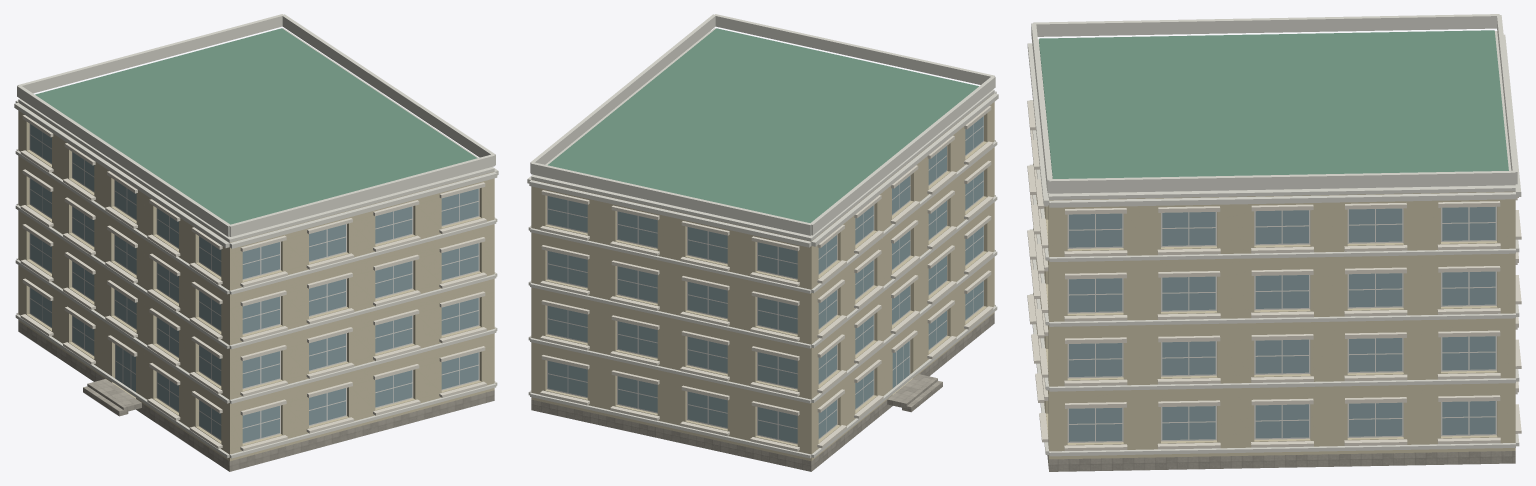
3 views of the same model, side by side, from view 1: azimuth 30°, elevation 25°; view 2: azimuth 150°, elevation 25°; view 3: azimuth 270°, elevation 25° (orthographic). The views are drawn at different scales.
Visible parts, largest first — view 1: jaran__plaster, jaran__roof, jaran__glass, jaran__cap, jaran__lintel, jaran__frame, jaran__stone, jaran__stair-front, jaran__threshold-front; view 2: jaran__plaster, jaran__roof, jaran__cap, jaran__glass, jaran__lintel, jaran__frame, jaran__stone, jaran__stair-front, jaran__threshold-front; view 3: jaran__roof, jaran__plaster, jaran__cap, jaran__glass, jaran__lintel, jaran__frame, jaran__stone.
Part boxes in pixels (<box>): jaran__plaster: <box>18,102,494,461</box>; jaran__roof: <box>35,28,477,224</box>; jaran__glass: <box>30,124,478,442</box>; jaran__cap: <box>14,14,498,458</box>; jaran__lintel: <box>20,115,486,451</box>; jaran__frame: <box>29,124,479,443</box>; jaran__stone: <box>18,321,494,471</box>; jaran__stair-front: <box>83,382,128,416</box>; jaran__threshold-front: <box>92,379,141,411</box>; jaran__plaster: <box>531,93,994,461</box>; jaran__roof: <box>548,28,978,222</box>; jaran__cap: <box>527,14,998,458</box>; jaran__glass: <box>548,116,983,443</box>; jaran__lintel: <box>540,106,993,451</box>; jaran__frame: <box>547,116,983,444</box>; jaran__stone: <box>531,313,994,471</box>; jaran__stair-front: <box>902,377,942,412</box>; jaran__threshold-front: <box>887,374,932,407</box>; jaran__roof: <box>1039,30,1508,178</box>; jaran__plaster: <box>1033,163,1515,459</box>; jaran__cap: <box>1027,14,1521,456</box>; jaran__glass: <box>1069,207,1495,441</box>; jaran__lintel: <box>1027,100,1521,450</box>; jaran__frame: <box>1067,206,1496,442</box>; jaran__stone: <box>1047,451,1515,471</box>.
Bounding box in the file's own units: 19.48 × 14.86 × 22.82.
8 materials, 2 textured.
